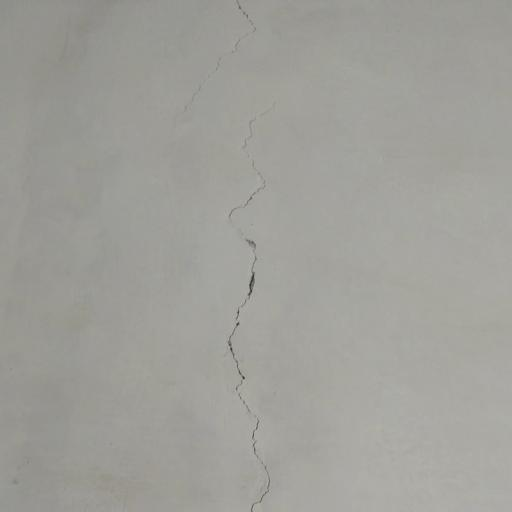major_crack: (209, 0, 284, 512)
